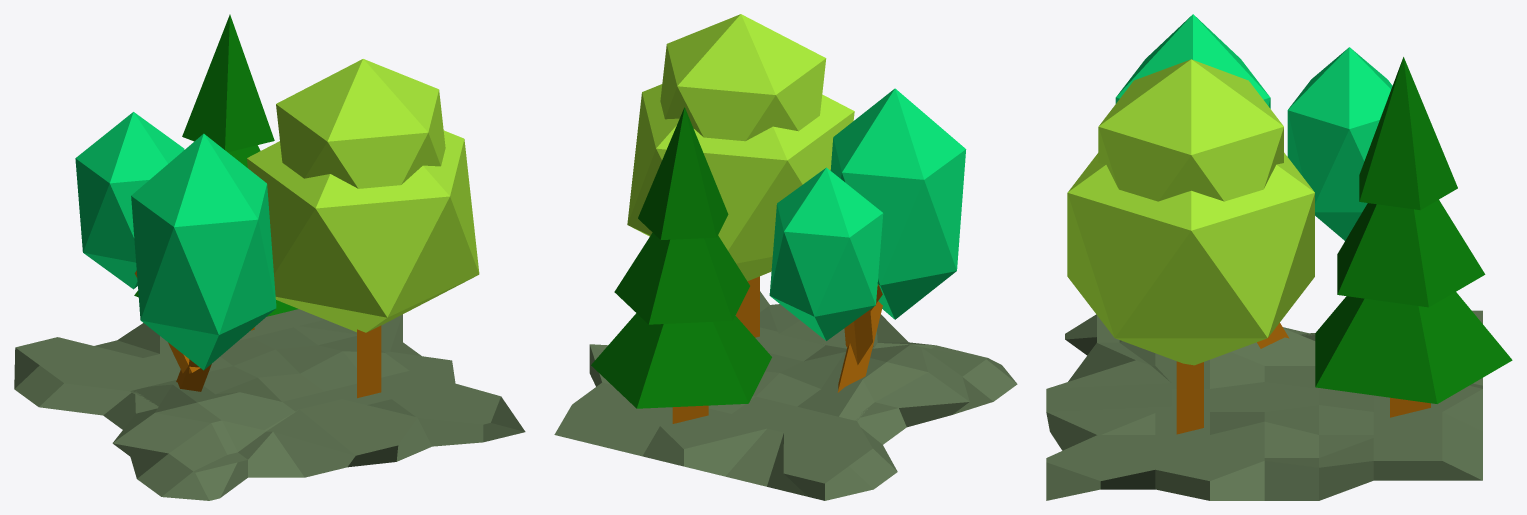
The model's file is green_a_n.glb.
The picture shows the model from 3 angles, left to right: view 1: azimuth 30°, elevation 25°; view 2: azimuth 150°, elevation 25°; view 3: azimuth 270°, elevation 25°; orthographic projection. The views are drawn at different scales.
Parts seen in each view (by area): view 1: Icosphere; view 2: Icosphere; view 3: Icosphere.
Boxes of the visible parts, left/top/right/bottom form: Icosphere: left=14, top=14, right=525, bottom=500; Icosphere: left=554, top=14, right=1017, bottom=500; Icosphere: left=1046, top=14, right=1512, bottom=500.
Bounding box in the file's own units: 12.14 × 11.84 × 12.82.
